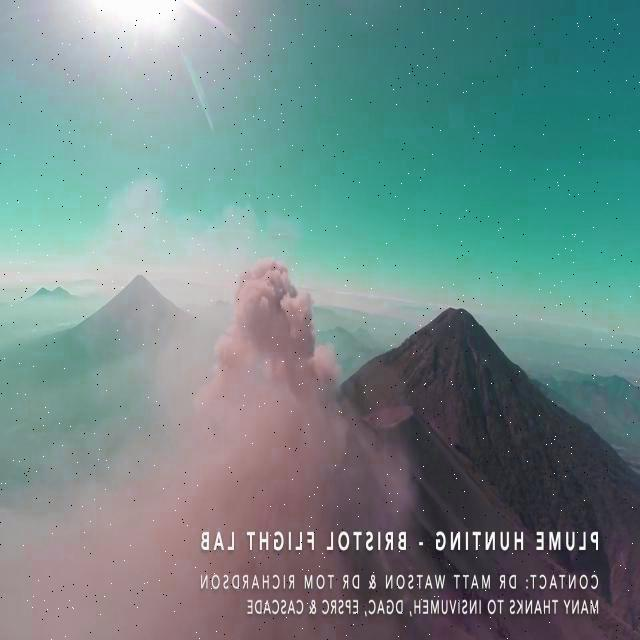Plume: (202, 248, 362, 492)
